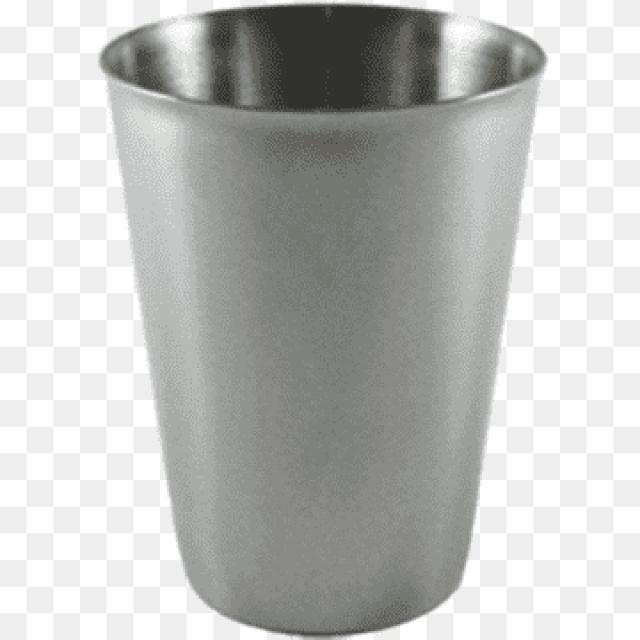Gelas: (82, 0, 566, 640)
